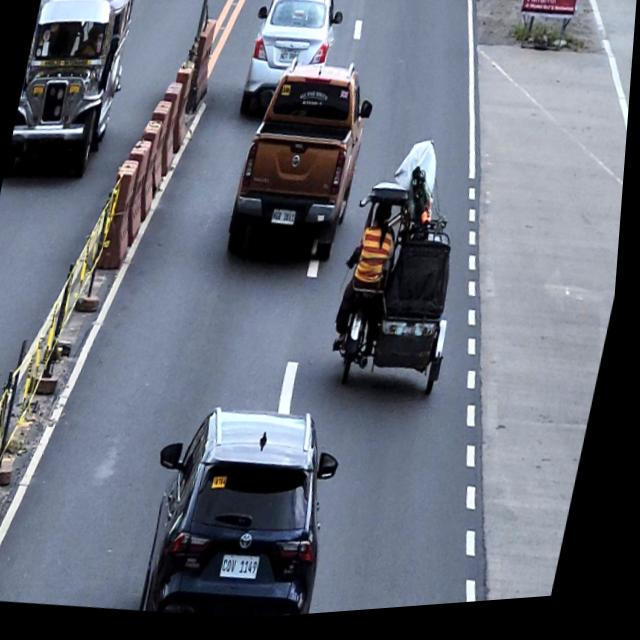Car: (139, 391, 363, 630), (227, 53, 384, 275), (238, 0, 350, 131)
Jeep: (6, 0, 145, 187)
License-Plate: (226, 553, 271, 588), (273, 210, 302, 232), (278, 52, 303, 69)
Tricycle: (321, 138, 494, 412)
